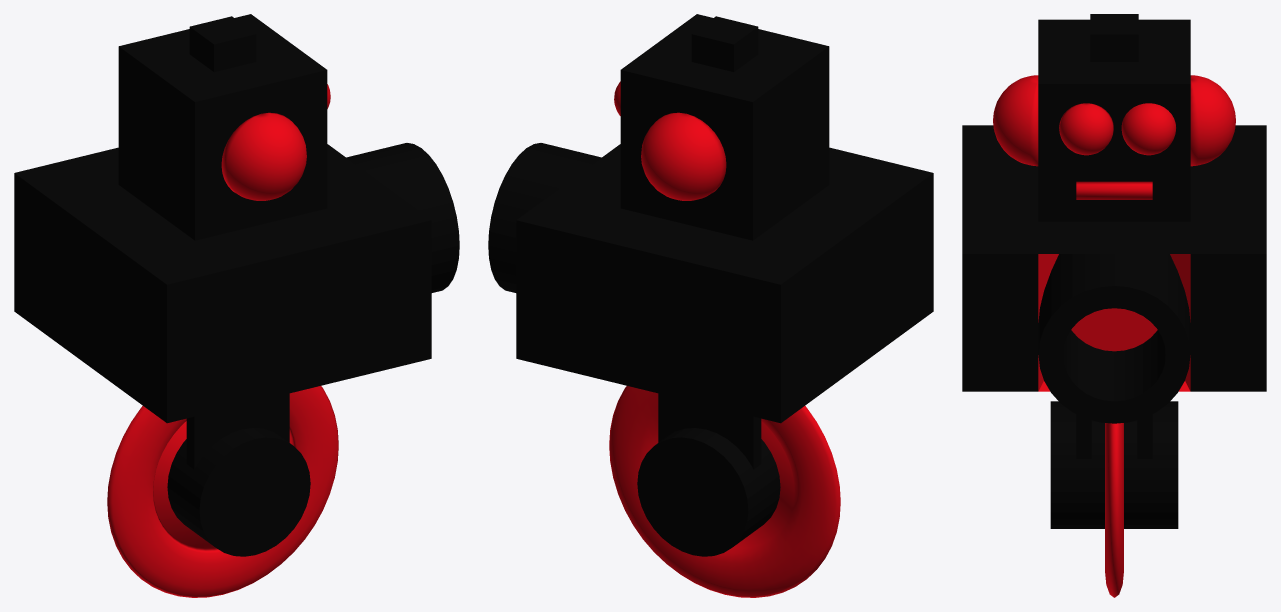
File: EnemyRobot.fbx
3 views of the same model, side by side, from view 1: azimuth 30°, elevation 25°; view 2: azimuth 150°, elevation 25°; view 3: azimuth 270°, elevation 25° (orthographic).
Visible parts, largest first — view 1: Cube.002, Torus, Cylinder.001, Cylinder, Sphere.001; view 2: Cube.002, Torus, Cylinder.001, Cylinder, Sphere.001; view 3: Cube.002, Cylinder, Cylinder.001, Sphere.001, Sphere.002, Torus, Cube.
Boxes of the visible parts, x1,y1,x2,y2 form: Cube.002: (14, 14, 431, 469); Torus: (107, 386, 338, 597); Cylinder.001: (167, 428, 310, 556); Cylinder: (346, 143, 459, 292); Sphere.001: (221, 112, 306, 200); Cube.002: (516, 14, 933, 469); Torus: (609, 386, 840, 597); Cylinder.001: (637, 428, 780, 556); Cylinder: (488, 143, 601, 292); Sphere.001: (641, 112, 726, 200); Cube.002: (962, 14, 1266, 458); Cylinder: (1038, 254, 1190, 423); Cylinder.001: (1050, 401, 1178, 528); Sphere.001: (993, 75, 1235, 166); Sphere.002: (1059, 103, 1175, 155); Torus: (1105, 423, 1123, 597); Cube: (1076, 181, 1152, 199).
Bounding box in the file's own units: 500 × 815 × 400.
